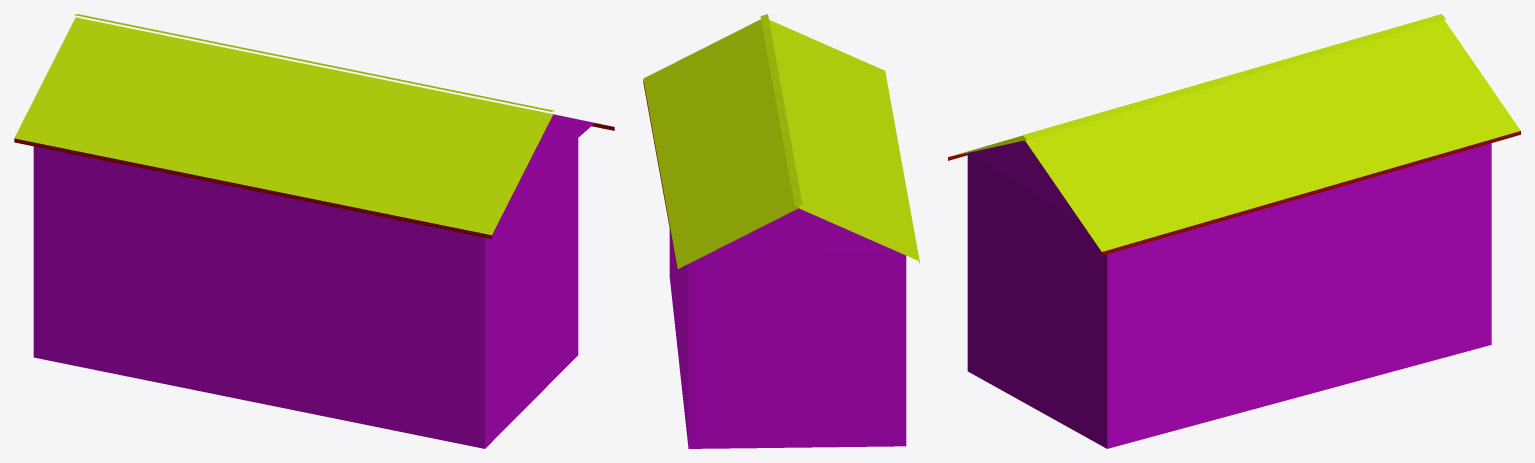
File: bgj_1.glb
3 renders of one model, left to right at view 1: azimuth 30°, elevation 25°; view 2: azimuth 150°, elevation 25°; view 3: azimuth 270°, elevation 25°, orthographic. The views are drawn at different scales.
Parts seen in each view (by area): view 1: bgj_1; view 2: bgj_1; view 3: bgj_1.
Part boxes in pixels (<box>): bgj_1: <box>14,14,614,448</box>; bgj_1: <box>643,14,919,448</box>; bgj_1: <box>948,14,1520,448</box>.
Size of the model in its own units: 14.51 by 8.79 by 16.25.
